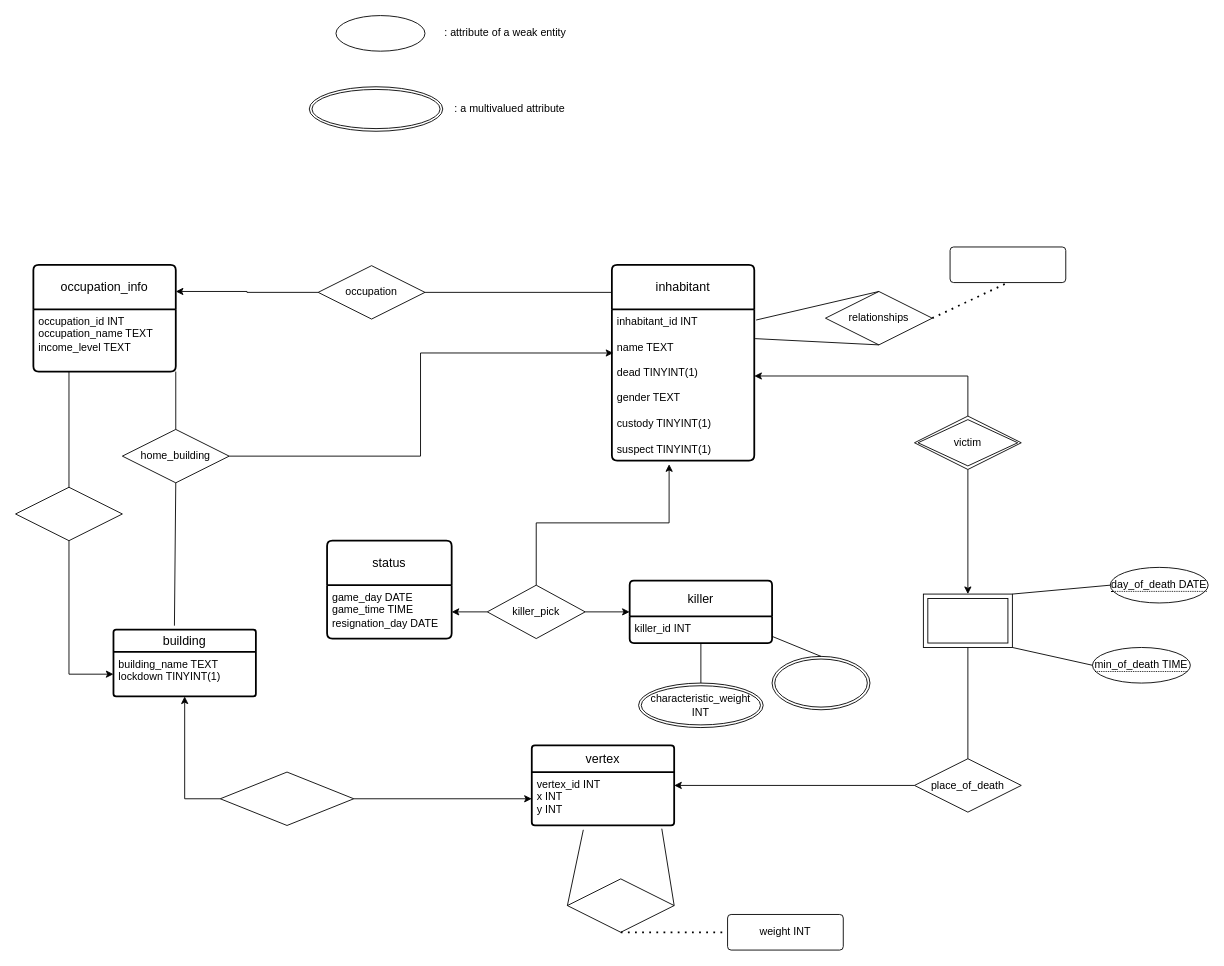
Image size: 1224x966. Some labels were removed from this diagram. The shapes that lost their labels are listed below. From the top down, each one's centre as x and y in pixels, then its label:
At point (380, 33): "weak_attribute".
At point (375, 108): "multivalued_attribute".
At point (1007, 264): "relation_description TEXT".
At point (68, 513): "work_place".
At point (967, 620): "victim_info".
At point (820, 682): "characteristic_id INT".
At point (286, 798): "location_of_building".
At point (620, 905): "edge".
